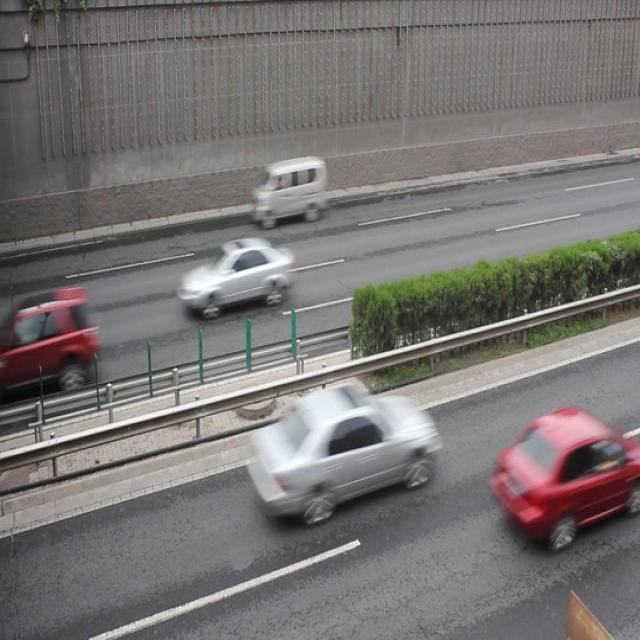car: (250, 380, 436, 520), (490, 405, 630, 546), (9, 275, 96, 393), (179, 234, 294, 314)
truck: (252, 158, 327, 222)
